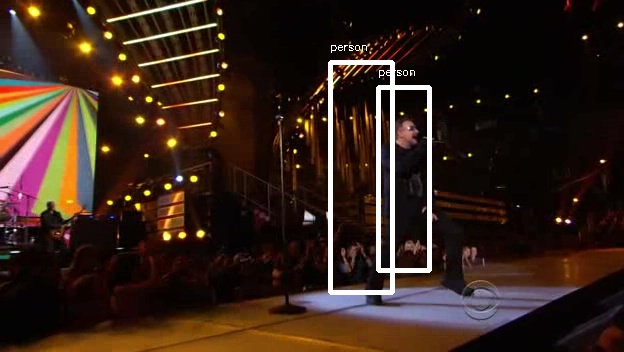person: (378, 125, 446, 247), (375, 125, 443, 247), (381, 125, 449, 247), (378, 122, 446, 244), (378, 128, 446, 250)
target_negative: (65, 33, 604, 343), (377, 153, 556, 326), (466, 290, 617, 349), (549, 290, 620, 301), (602, 207, 616, 249), (576, 268, 579, 274)
